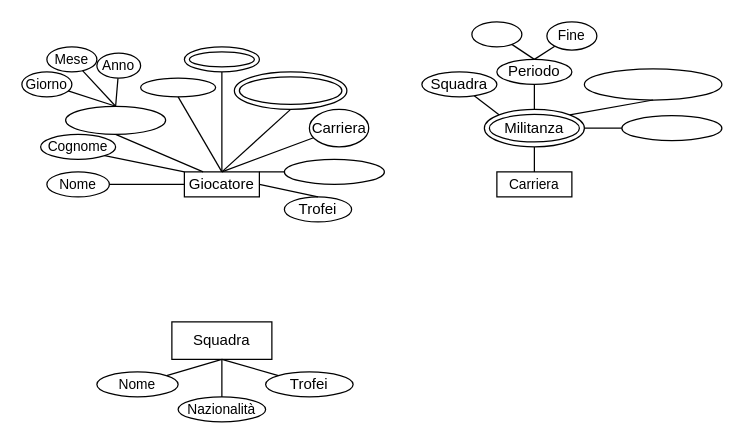
The diagram is 744 pixels wide and 444 high, and some of its shapes have lost their labels. The centre of each missing label's shape, as x and y in pixels:
"Caratteristiche" belongs at (x=290, y=90).
"Data di nascita" belongs at (x=115, y=119).
"Data di ritiro" belongs at (x=333, y=171).
"Goal segnati" belongs at (x=671, y=127).
"Inizio" belongs at (x=496, y=34).
"Partite giocate" belongs at (x=652, y=84).
"Piede" belongs at (x=177, y=87).
"Ruolo" belongs at (x=221, y=59).
